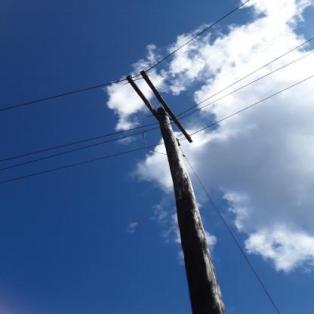Poste: (152, 104, 230, 314)
